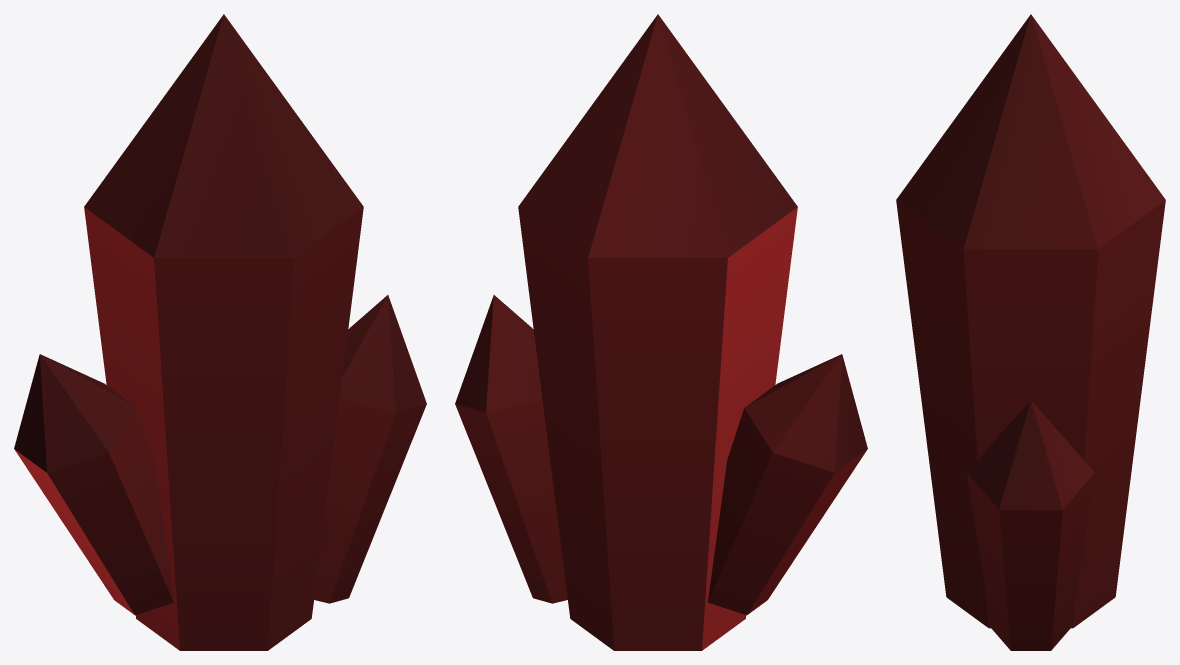
Rendered from Red_Crystal.fbx.
3 views of the same model, side by side, from view 1: azimuth 30°, elevation 25°; view 2: azimuth 150°, elevation 25°; view 3: azimuth 270°, elevation 25° (orthographic). The views are drawn at different scales.
Parts seen in each view (by area): view 1: Crystal; view 2: Crystal; view 3: Crystal.
Boxes of the visible parts, x1,y1,x2,y2 form: Crystal: (14, 14, 426, 650); Crystal: (455, 14, 867, 650); Crystal: (896, 14, 1165, 650).
Bounding box in the file's own units: 113 × 172 × 72.11.
Materials: 1 (1 with a texture image).
